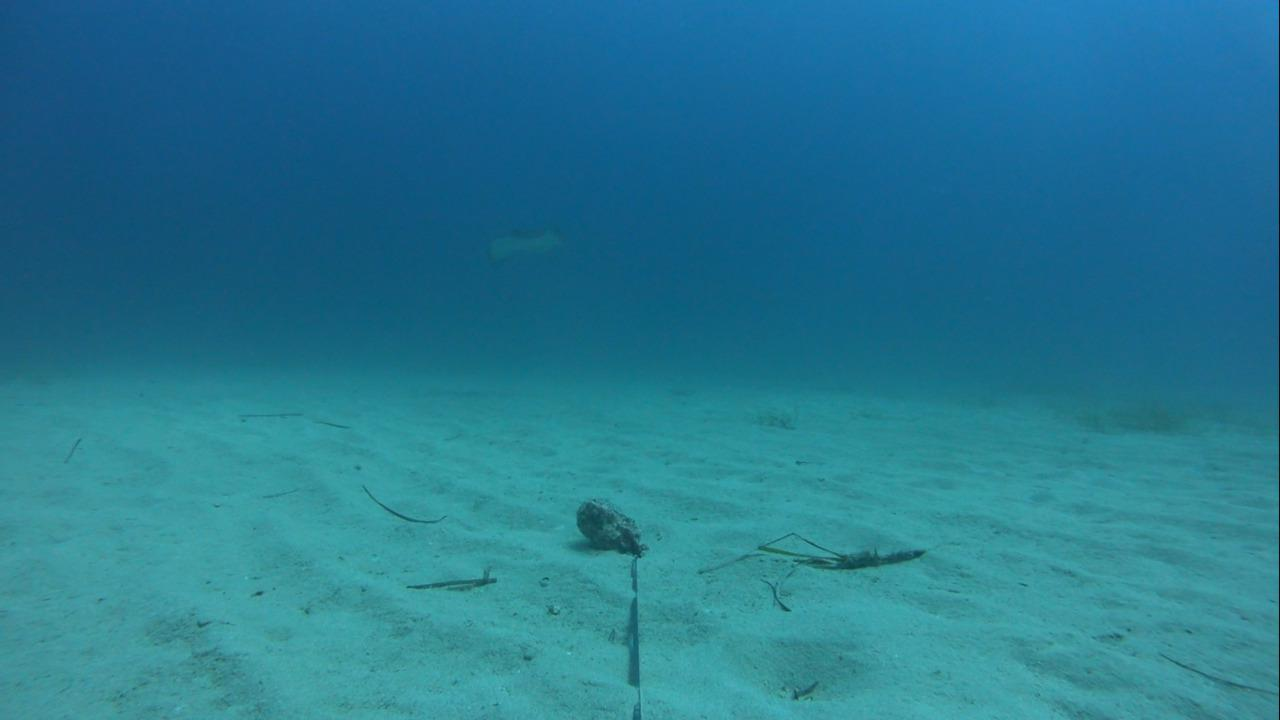myliobatis: (467, 209, 606, 275)
